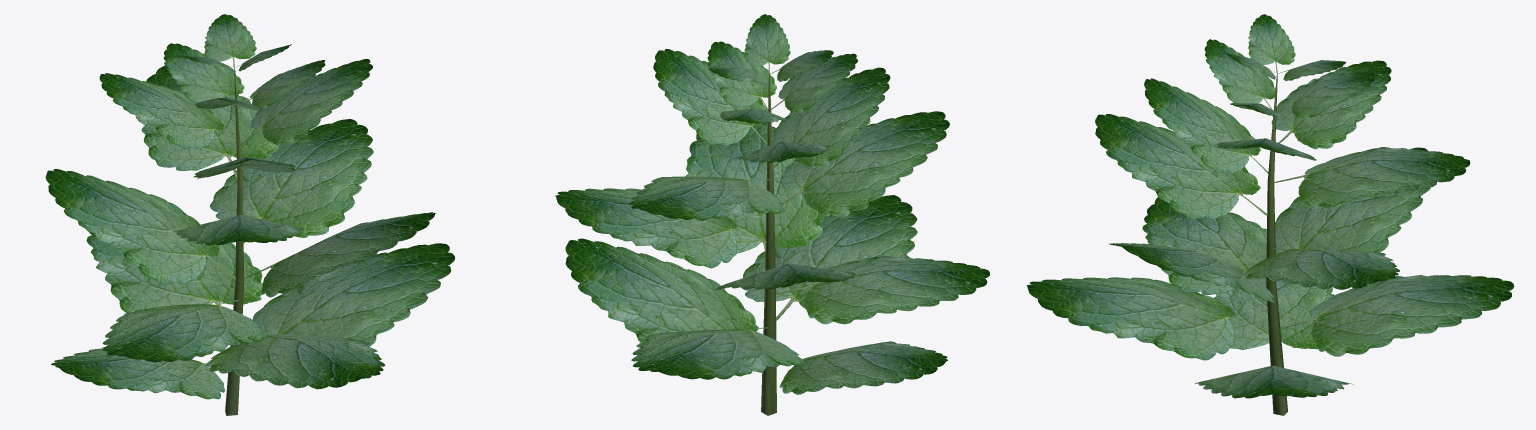
File: Plant_05.FBX
3 views of the same model, side by side, from view 1: azimuth 30°, elevation 25°; view 2: azimuth 150°, elevation 25°; view 3: azimuth 270°, elevation 25° (orthographic). The views are drawn at different scales.
Parts seen in each view (by area): view 1: Plant_05; view 2: Plant_05; view 3: Plant_05.
Boxes of the visible parts, box(x1,y1,x2,y2) form: Plant_05: box(45, 14, 454, 415); Plant_05: box(555, 14, 989, 415); Plant_05: box(1026, 14, 1514, 415).
Size of the model in its own units: 0.572 by 0.4993 by 0.6036.
